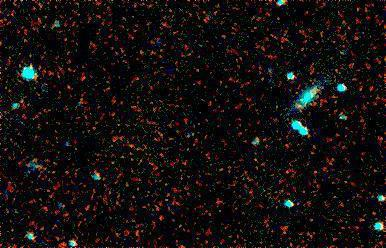star: (283, 93, 313, 123)
